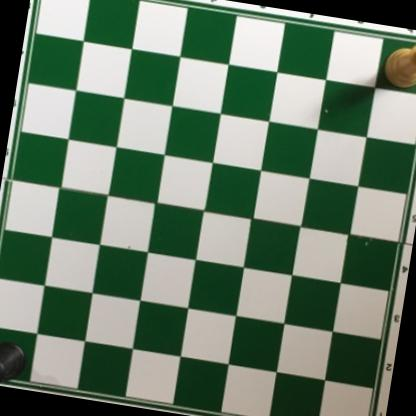black-king: (0, 335, 32, 390)
white-king: (381, 31, 416, 95)
